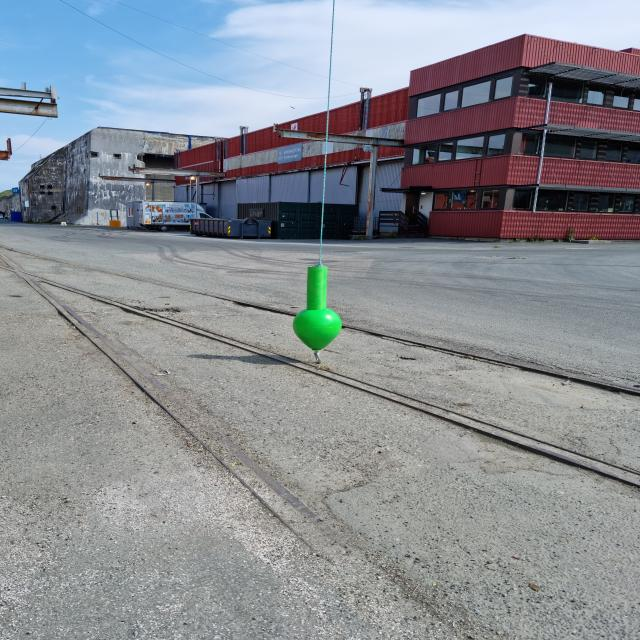green: (292, 265, 342, 351)
